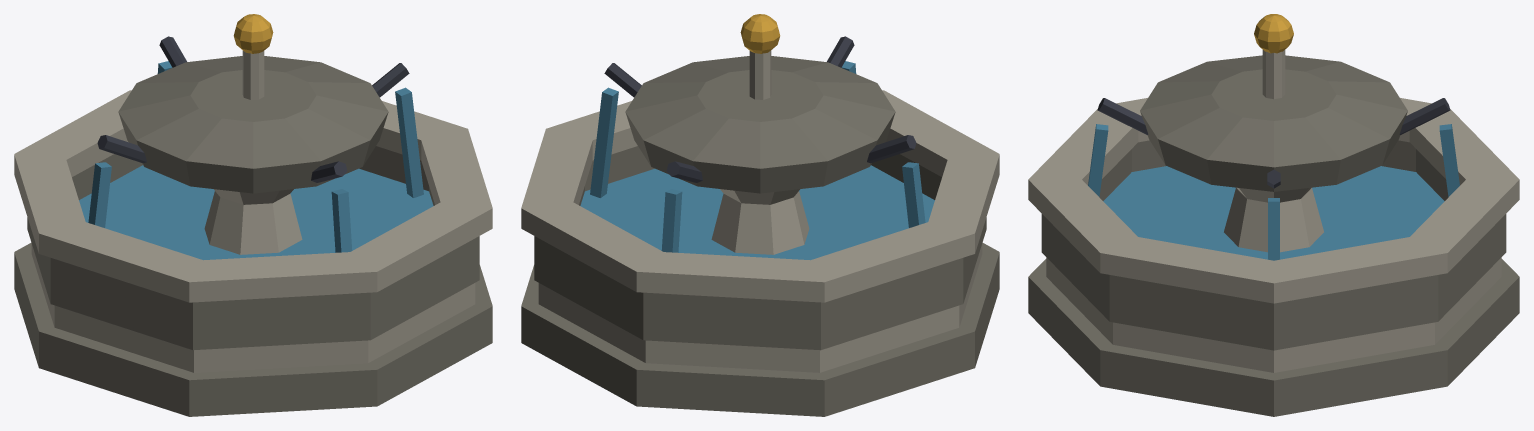
File: fountain.fbx
The picture shows the model from 3 angles, left to right: view 1: azimuth 30°, elevation 25°; view 2: azimuth 150°, elevation 25°; view 3: azimuth 270°, elevation 25°; orthographic projection.
Parts seen in each view (by area): view 1: fountain; view 2: fountain; view 3: fountain.
Boxes of the visible parts, x1,y1,x2,y2 form: fountain: (14,14,492,416); fountain: (521,14,999,416); fountain: (1028,14,1519,416).
Bounding box in the file's own units: 220 × 147 × 220.
